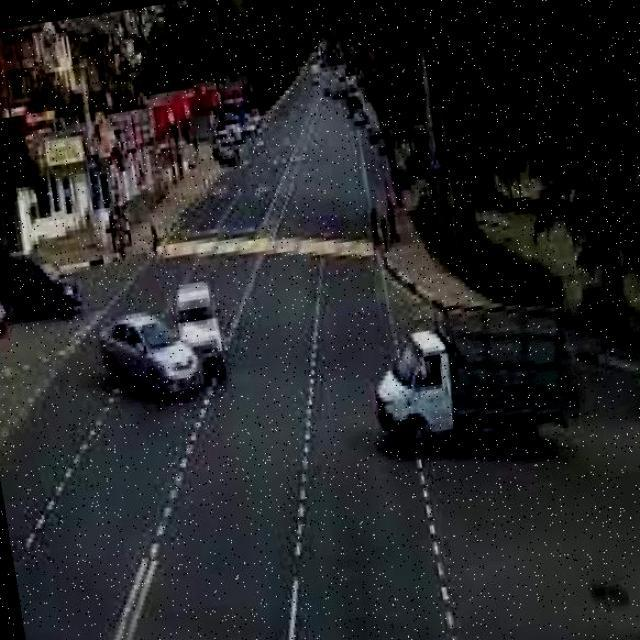accident: (88, 270, 240, 417)
